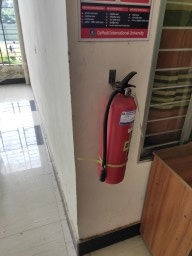fire_extinguisher: (52, 71, 138, 125)
